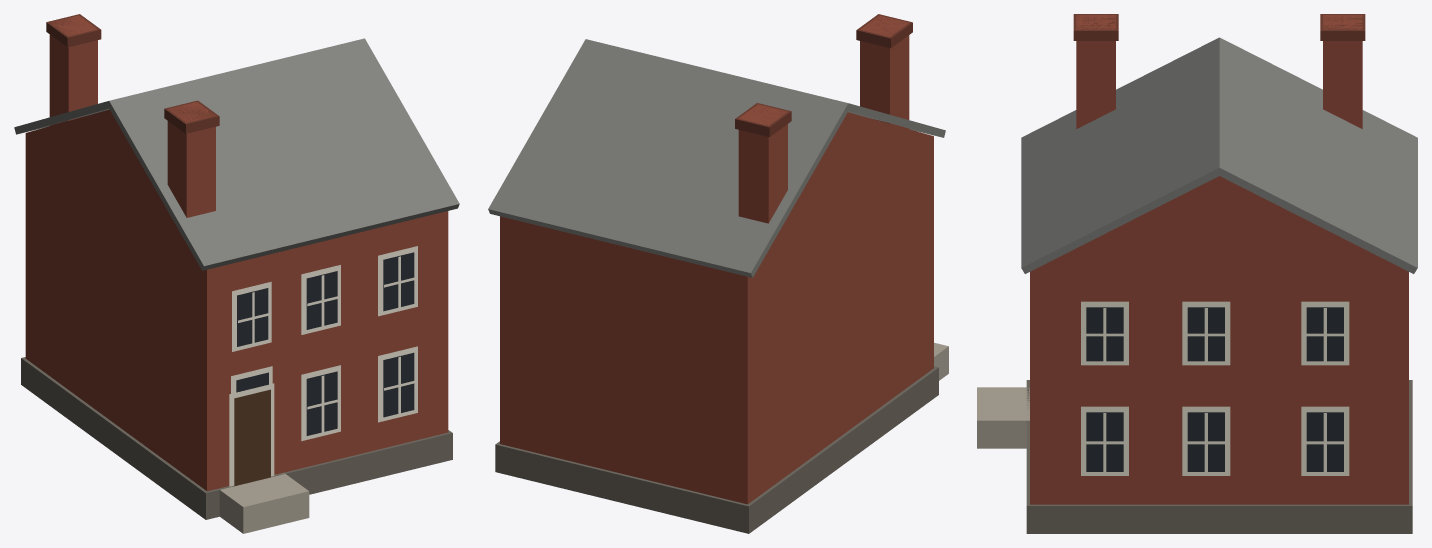
Rendered from brick_b.glb.
The picture shows the model from 3 angles, left to right: view 1: azimuth 30°, elevation 25°; view 2: azimuth 150°, elevation 25°; view 3: azimuth 270°, elevation 25°; orthographic projection. The views are drawn at different scales.
Parts seen in each view (by area): view 1: brick_b; view 2: brick_b; view 3: brick_b.
Boxes of the visible parts, bbox=[...] form: brick_b: bbox=[14, 14, 459, 533]; brick_b: bbox=[488, 14, 948, 533]; brick_b: bbox=[977, 14, 1417, 533].
Size of the model in its own units: 7 by 9.9 by 10.
